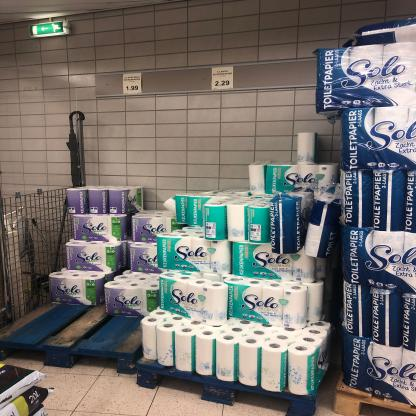prtg: (212, 67, 235, 91), (124, 74, 143, 95)
